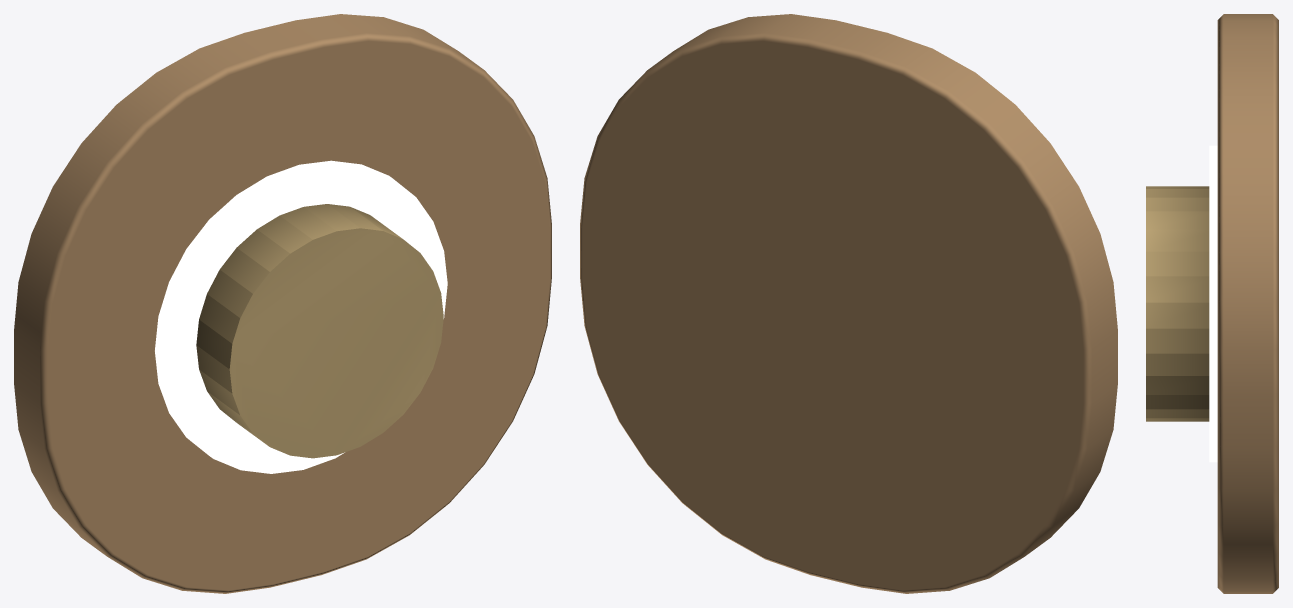
Rendered from secret_button.gltf.
3 renders of one model, left to right at view 1: azimuth 30°, elevation 25°; view 2: azimuth 150°, elevation 25°; view 3: azimuth 270°, elevation 25°, orthographic. The views are drawn at different scales.
Parts seen in each view (by area): view 1: SecretButton_Plate, SecretButton_Rocker_Button, SecretButton_Locator; view 2: SecretButton_Plate; view 3: SecretButton_Plate, SecretButton_Rocker_Button, SecretButton_Locator.
Part boxes in pixels (x1,y1,x2,y2): SecretButton_Plate: (14,14,551,593); SecretButton_Rocker_Button: (196,204,443,458); SecretButton_Locator: (155,160,447,473); SecretButton_Plate: (580,14,1117,593); SecretButton_Plate: (1217,14,1278,593); SecretButton_Rocker_Button: (1146,186,1209,421); SecretButton_Locator: (1209,145,1217,462).
Size of the model in its own units: 0.11 by 0.11 by 0.026.
